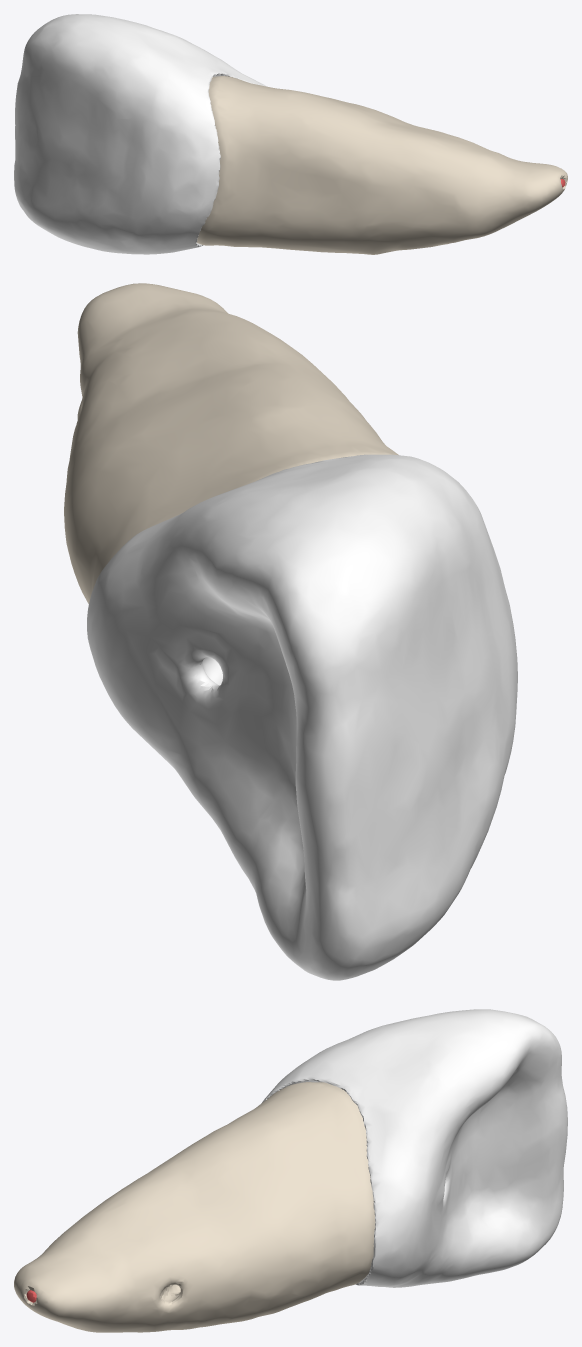
The model's file is 牙内陷3.fbx.
3 renders of one model, top to bottom at view 1: azimuth 30°, elevation 25°; view 2: azimuth 150°, elevation 25°; view 3: azimuth 270°, elevation 25°, orthographic. The views are drawn at different scales.
Visible parts, largest first — view 1: texture_B, texture_W; view 2: texture_W, texture_B; view 3: texture_B, texture_W.
Boxes of the visible parts, x1,y1,x2,y2 form: texture_B: (197,76,567,254); texture_W: (14,14,266,254); texture_W: (87,454,517,980); texture_B: (64,283,398,604); texture_B: (14,1082,375,1332); texture_W: (261,1009,567,1287).
Size of the model in its own units: 20.86 by 12 by 23.57.
3 materials, 3 textured.
